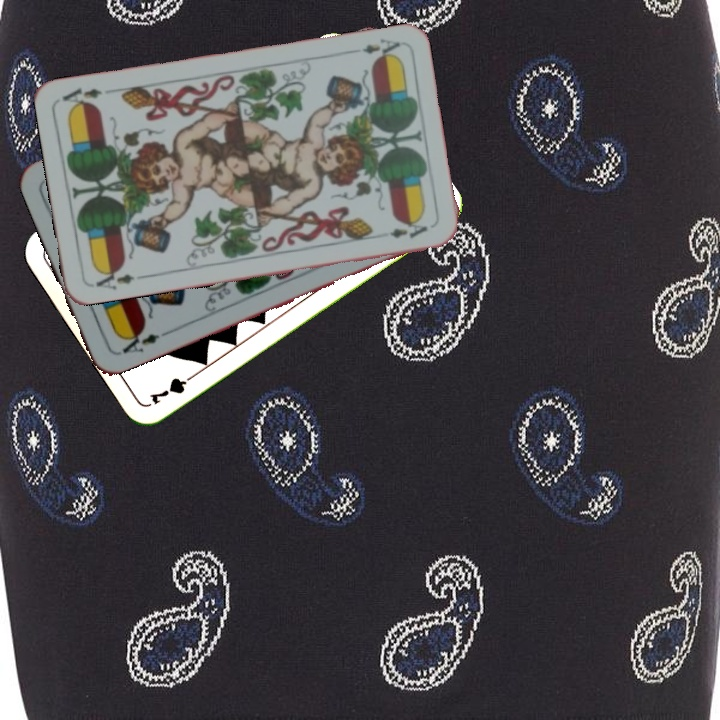EA: (113, 324, 162, 358), (345, 35, 403, 63), (92, 263, 137, 292)
G7: (145, 368, 201, 407)
